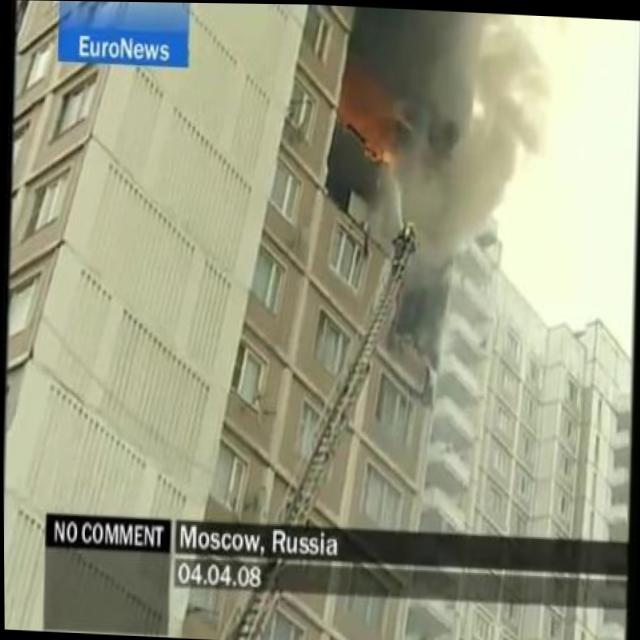fire: (364, 143, 393, 162)
